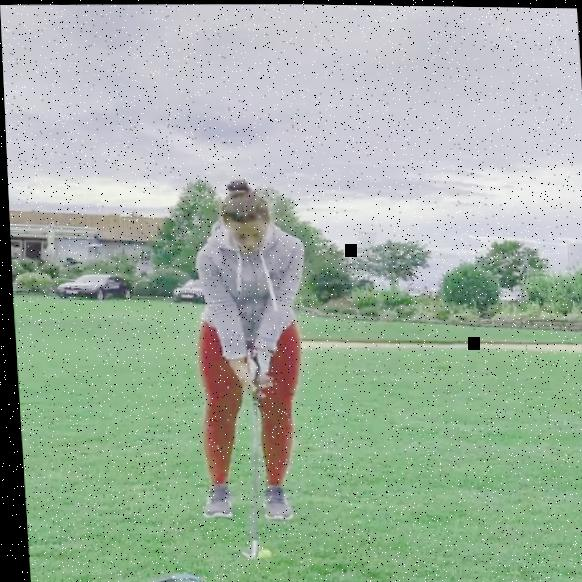ClubHead: (238, 549, 253, 560)
GolfBall: (252, 549, 267, 559)
